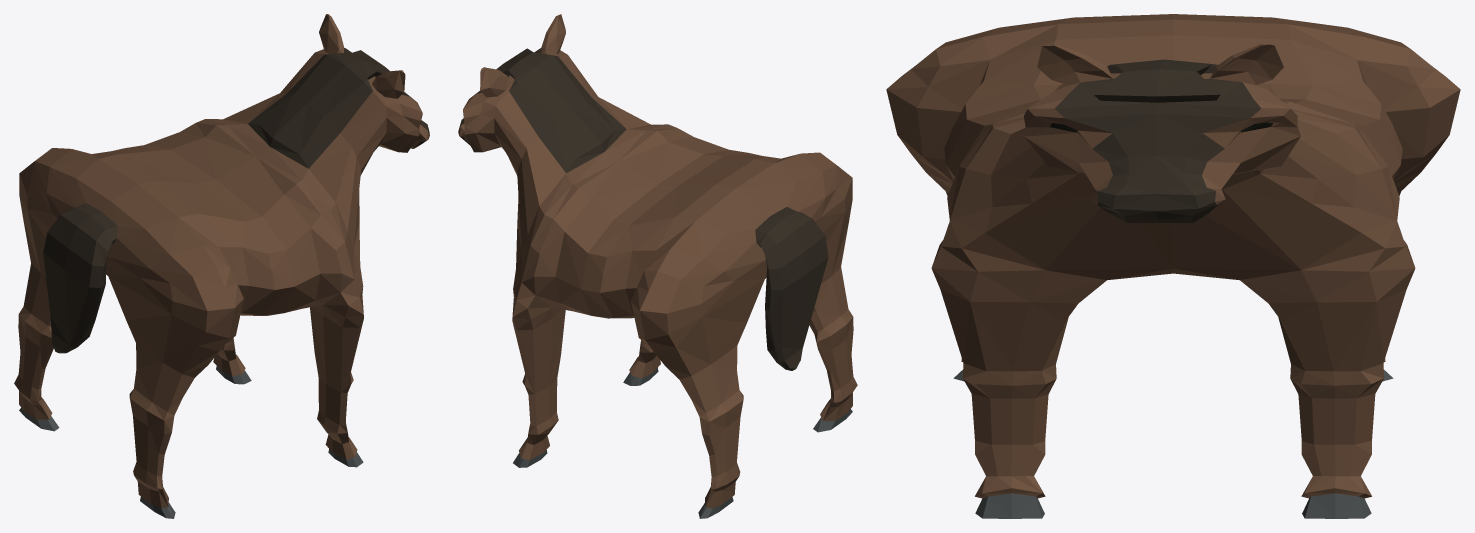
Rendered from racehorse.glb.
3 renders of one model, left to right at view 1: azimuth 30°, elevation 25°; view 2: azimuth 150°, elevation 25°; view 3: azimuth 270°, elevation 25°, orthographic. The views are drawn at different scales.
Size of the model in its own units: 1 by 1 by 1.
